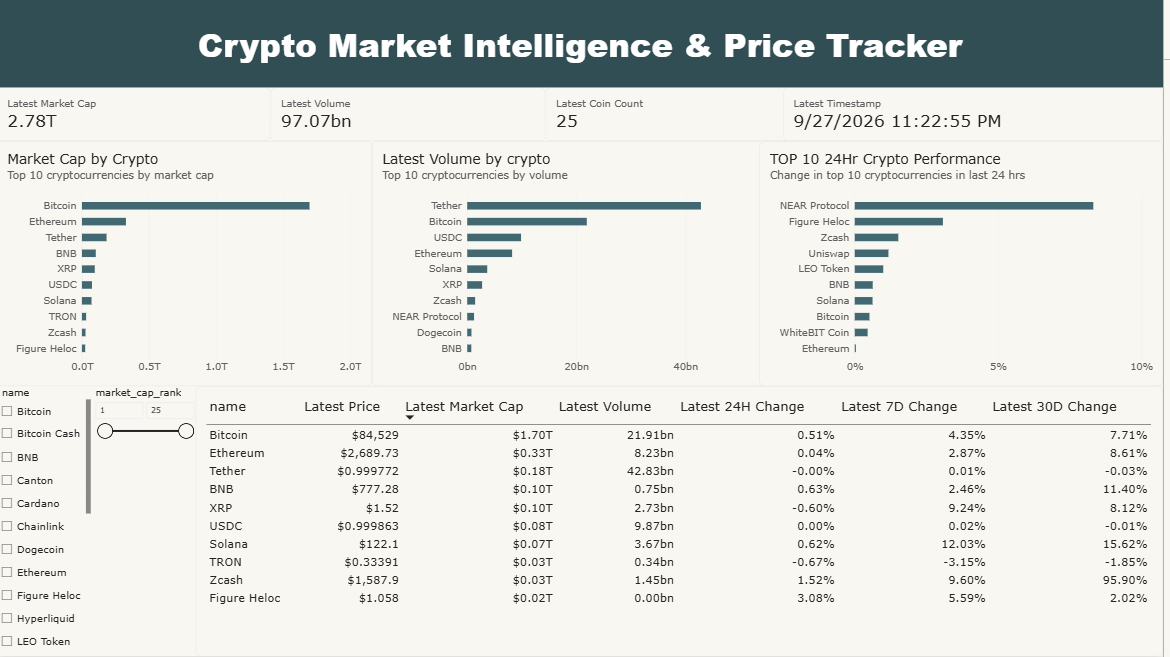

This screenshot's page, from the dashboard's own definition file:
{"tool":"powerbi","page":{"name":"Market Overview","canvas":[1920,1080],"ordinal":0},"visuals":[{"type":"cardVisual","fields":{"Data":["crypto_historical_data.Latest Market Cap"]},"box":[0,144.1,450.8,88.5],"z":0},{"type":"cardVisual","fields":{"Data":["crypto_historical_data.Latest Volume"]},"box":[450.8,144.1,452.8,88.5],"z":1},{"type":"cardVisual","fields":{"Data":["crypto_historical_data.Latest Coin Count"]},"box":[903.6,144.1,413.7,88.5],"z":2},{"type":"cardVisual","fields":{"Data":["crypto_historical_data.Latest Timestamp"]},"box":[1294.7,144.1,625.7,88.5],"z":3},{"type":"clusteredBarChart","title":"Market Cap by Crypto","fields":{"Category":["crypto_historical_data.name"],"Y":["Sum(crypto_historical_data.market_cap)"]},"box":[0,232.6,617.5,403.4],"z":4},{"type":"clusteredBarChart","title":"Latest Volume by crypto","fields":{"Category":["crypto_historical_data.name"],"Y":["crypto_historical_data.Latest Volume"]},"box":[617.5,232.6,644.3,403.4],"z":5},{"type":"clusteredBarChart","title":"TOP 10 24Hr Crypto Performance","fields":{"Category":["crypto_historical_data.name"],"Y":["crypto_historical_data.Latest 24H Change"]},"box":[1255.6,232.6,664.8,403.4],"z":6},{"type":"tableEx","fields":{"Values":["crypto_historical_data.name","crypto_historical_data.Latest Price","crypto_historical_data.Latest Market Cap","crypto_historical_data.Latest Volume","crypto_historical_data.Latest 24H Change","crypto_historical_data.Latest 7D Change","crypto_historical_data.Latest 30D Change"]},"box":[327.3,636,1593.1,444.6],"z":7},{"type":"textbox","box":[0,0,1920.4,144.1],"z":8},{"type":"slicer","fields":{"Values":["crypto_historical_data.name"]},"box":[0,636,154.4,444.6],"z":9},{"type":"slicer","fields":{"Values":["crypto_historical_data.market_cap_rank"]},"box":[154,636,173,444],"z":10}]}

Visuals, with their boxes in screenshot pixels (x1, y1, x2, y2), scaled from the page's 1920x1080 canvas onto the 1170x657 screenshot:
cardVisual - crypto_historical_data.Latest Market Cap: <box>0,88,275,141</box>
cardVisual - crypto_historical_data.Latest Volume: <box>275,88,551,141</box>
cardVisual - crypto_historical_data.Latest Coin Count: <box>551,88,803,141</box>
cardVisual - crypto_historical_data.Latest Timestamp: <box>789,88,1169,141</box>
"Market Cap by Crypto" clusteredBarChart: <box>0,141,376,387</box>
"Latest Volume by crypto" clusteredBarChart: <box>376,141,769,387</box>
"TOP 10 24Hr Crypto Performance" clusteredBarChart: <box>765,141,1169,387</box>
tableEx - crypto_historical_data.name x crypto_historical_data.Latest Price: <box>199,387,1169,656</box>
textbox: <box>0,0,1169,88</box>
slicer - crypto_historical_data.name: <box>0,387,94,656</box>
slicer - crypto_historical_data.market_cap_rank: <box>94,387,199,656</box>
